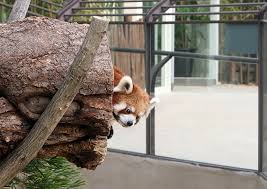redPanda: (104, 62, 155, 138)
